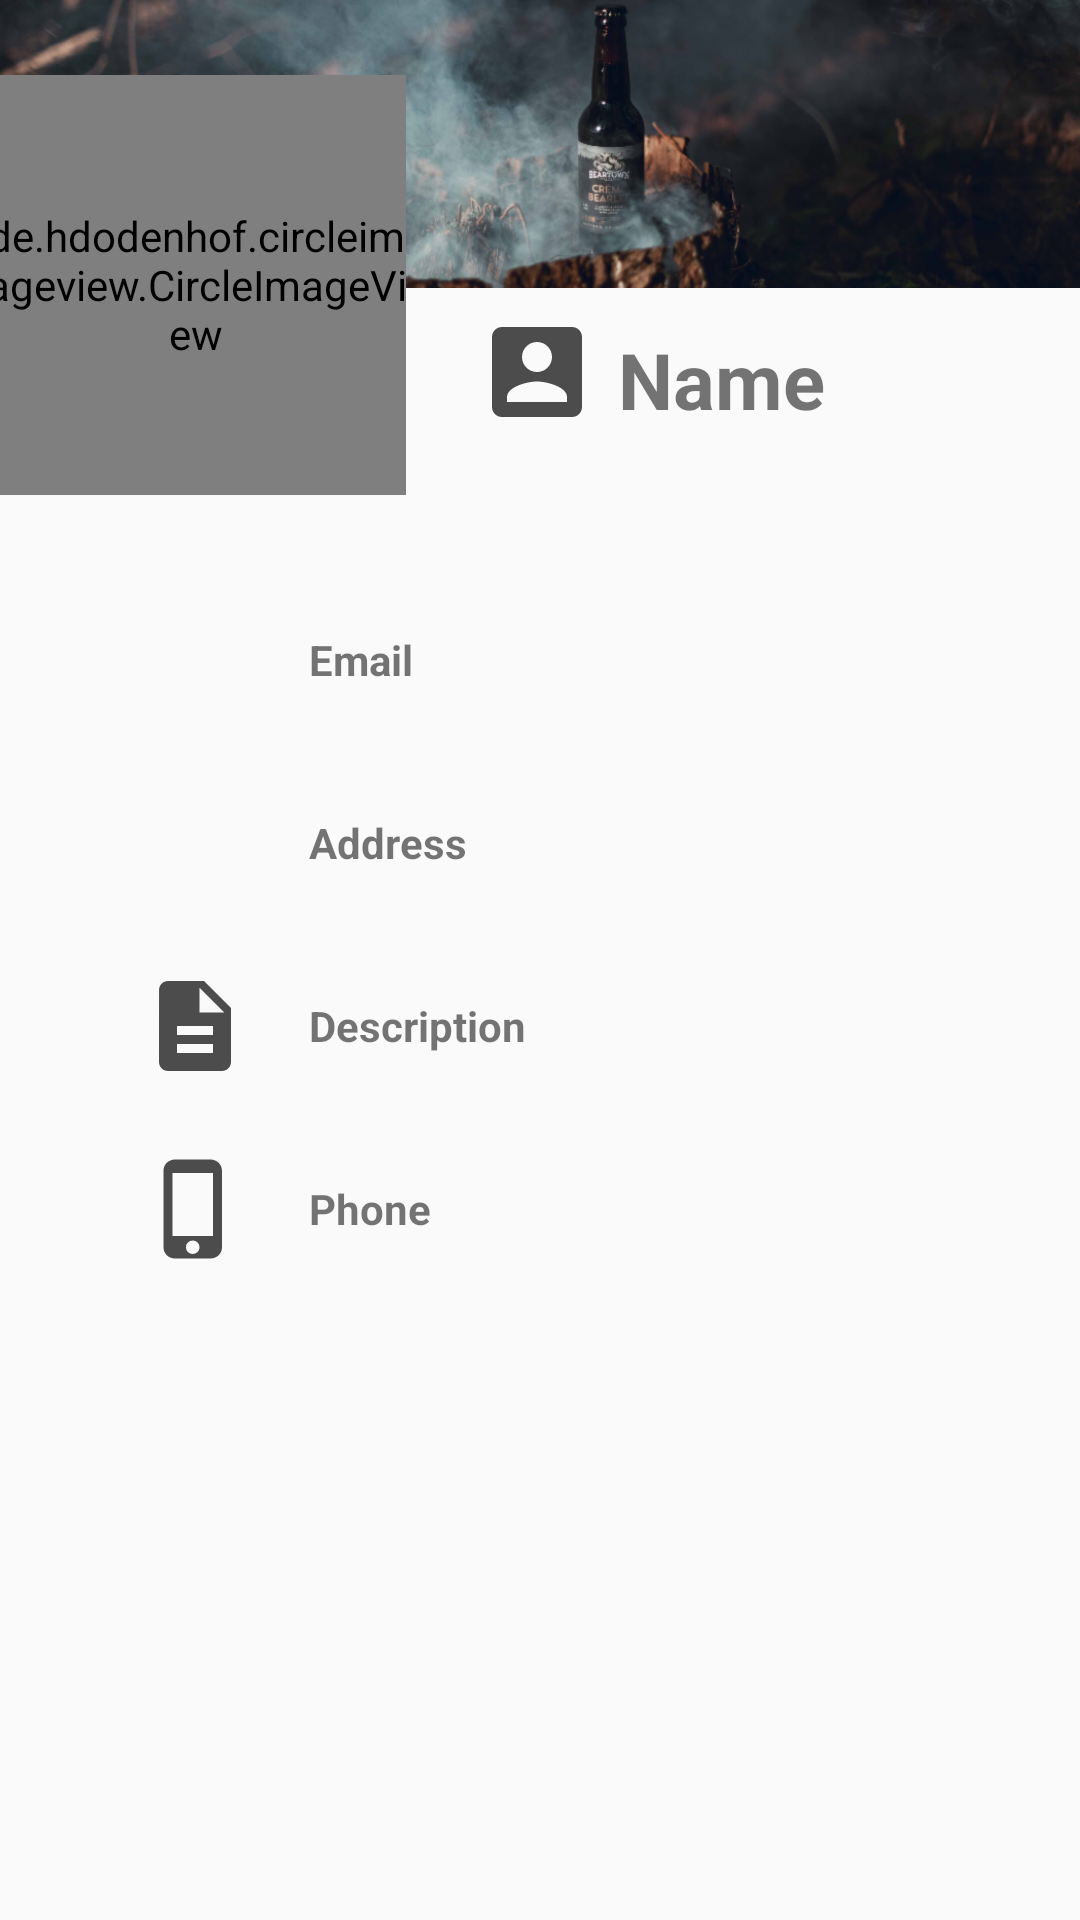

Named icons in this screenshot (1080 × 1920) and their centers, (x=x, y=y):
account box: (x=537, y=372)
